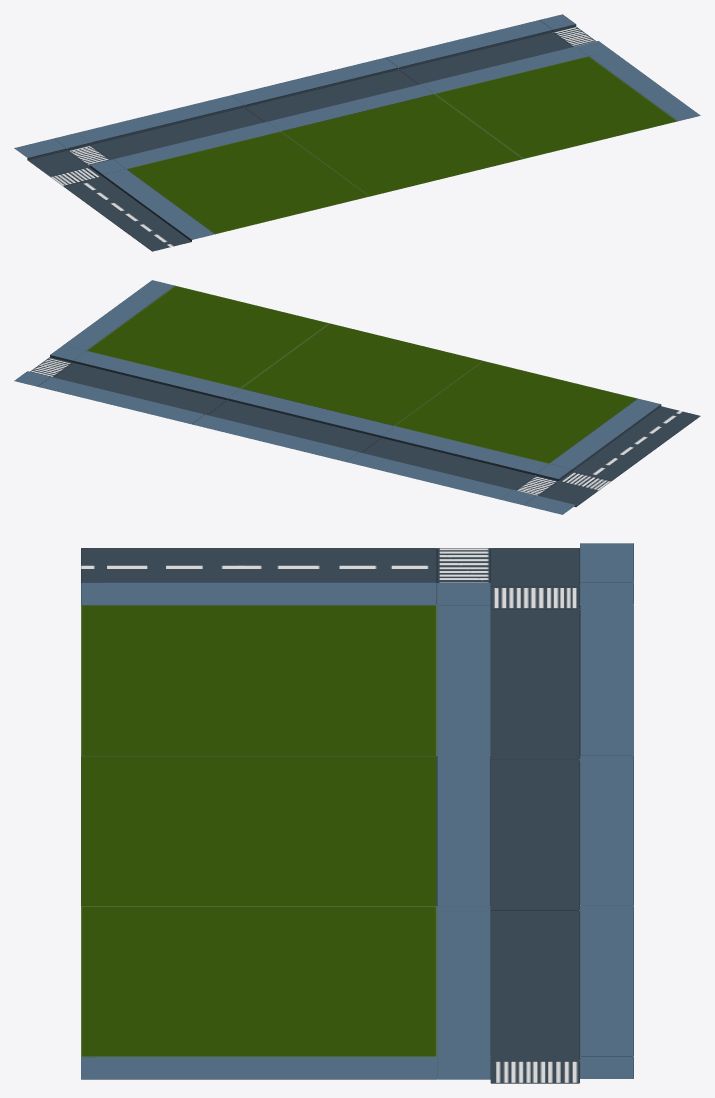
The model's file is Rua_02_V_01.fbx.
The picture shows the model from 3 angles, top to bottom: view 1: azimuth 30°, elevation 25°; view 2: azimuth 150°, elevation 25°; view 3: azimuth 270°, elevation 25°; orthographic projection. The views are drawn at different scales.
Visible parts, largest first — view 1: plane_selection; view 2: plane_selection; view 3: plane_selection.
Part boxes in pixels (left/top/right/bottom): plane_selection: left=14, top=14, right=700, bottom=251; plane_selection: left=14, top=280, right=700, bottom=514; plane_selection: left=81, top=543, right=633, bottom=1083.
Bounding box in the file's own units: 7116 × 28.12 × 3106.
Materials: 1 (1 with a texture image).
